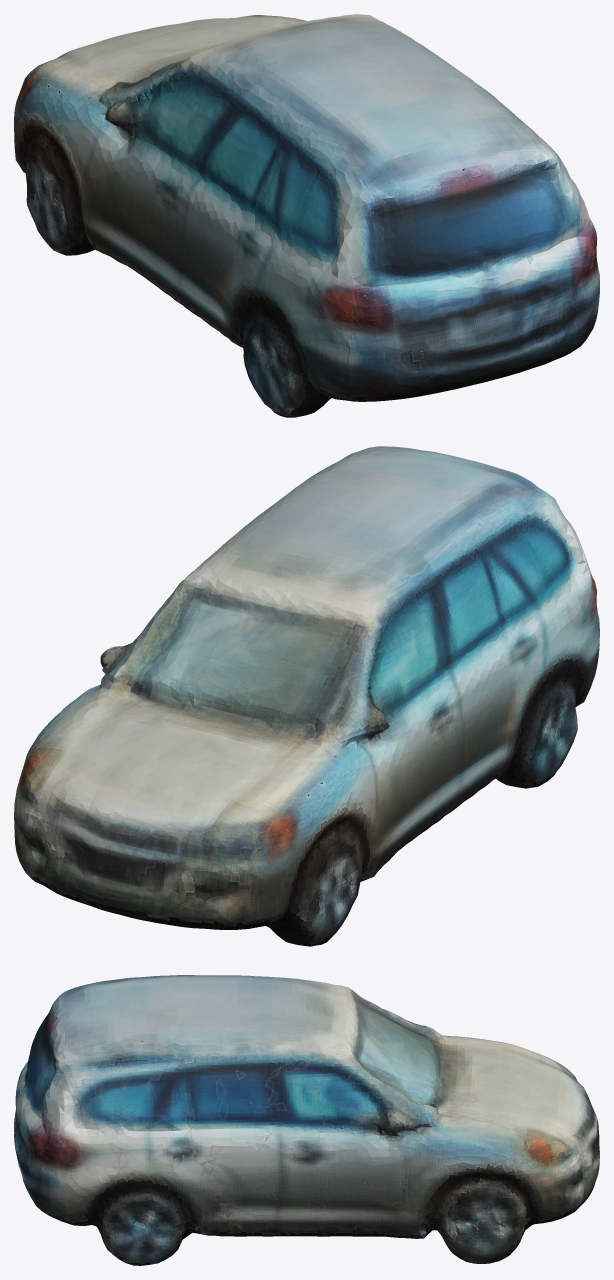
File: a SUV car.glb
3 renders of one model, top to bottom at view 1: azimuth 30°, elevation 25°; view 2: azimuth 150°, elevation 25°; view 3: azimuth 270°, elevation 25°, orthographic. The views are drawn at different scales.
Bounding box in the file's own units: 0.4566 × 0.4095 × 0.9988.
1 material, 1 textured.
